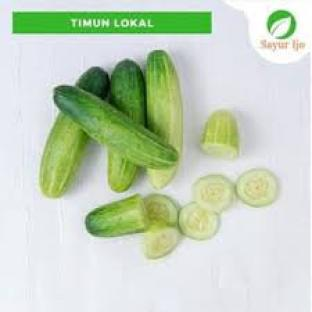Cucumber: (55, 86, 178, 169), (39, 113, 88, 198), (146, 50, 183, 153), (85, 195, 148, 237), (110, 60, 145, 124), (202, 110, 239, 158), (193, 175, 235, 213), (236, 170, 278, 206), (179, 203, 219, 239), (143, 224, 180, 259), (145, 195, 178, 226)
